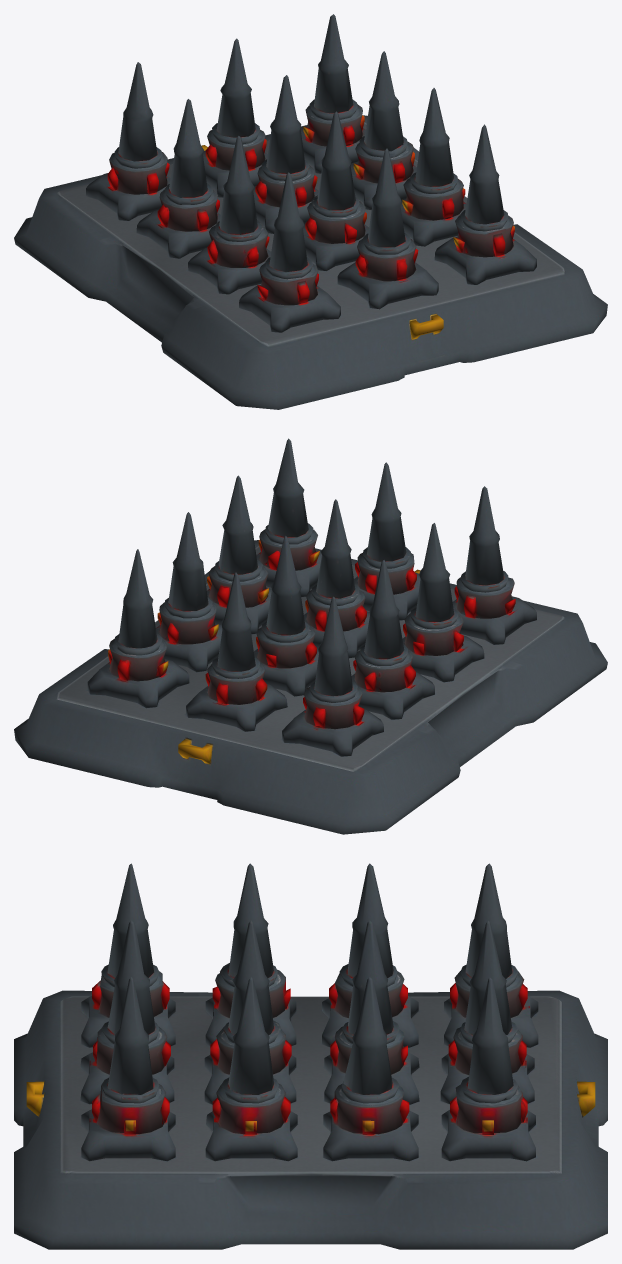
File: tripo_convert_4fe8735e-e30a-4d18-a9ed-6aad3a92583d.fbx
3 views of the same model, one above another, from view 1: azimuth 30°, elevation 25°; view 2: azimuth 150°, elevation 25°; view 3: azimuth 270°, elevation 25° (orthographic). The views are drawn at different scales.
Visible parts, largest first — view 1: tripo_node_4fe8735e; view 2: tripo_node_4fe8735e; view 3: tripo_node_4fe8735e.
Part boxes in pixels (x1=…): tripo_node_4fe8735e: x1=14, y1=14, x2=607, y2=409; tripo_node_4fe8735e: x1=14, y1=438, x2=607, y2=834; tripo_node_4fe8735e: x1=14, y1=863, x2=607, y2=1249.
Bounding box in the file's own units: 0.8691 × 0.4121 × 0.998.
